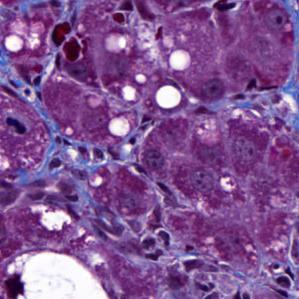ballooning: (5, 249, 111, 294)
